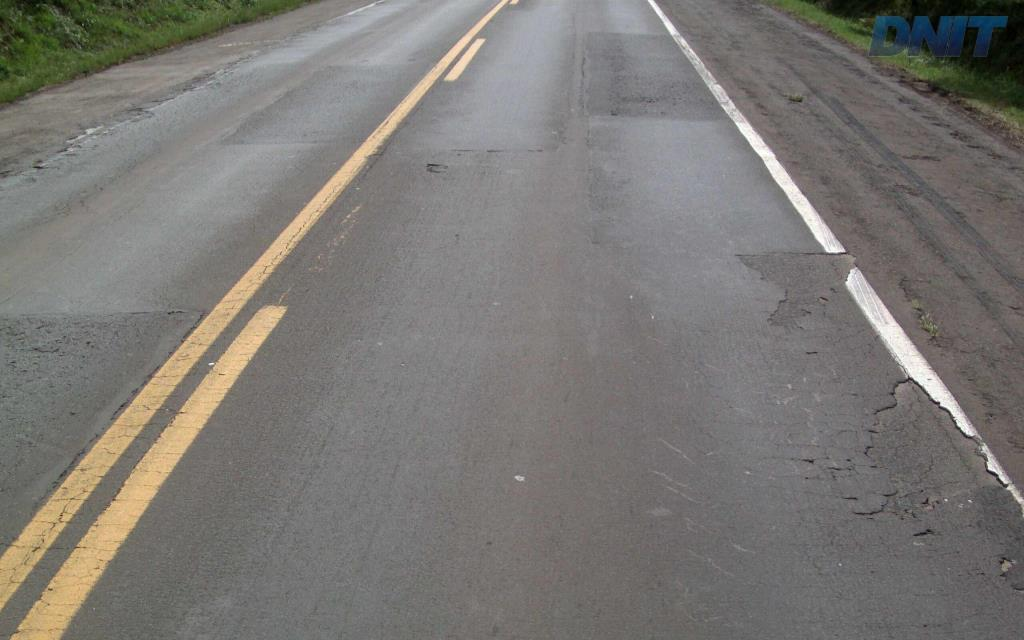pothole: (863, 367, 1008, 514), (734, 244, 853, 330), (418, 156, 454, 179), (988, 549, 1015, 577)
